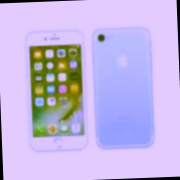iphone: (27, 29, 86, 151), (95, 29, 154, 151)
